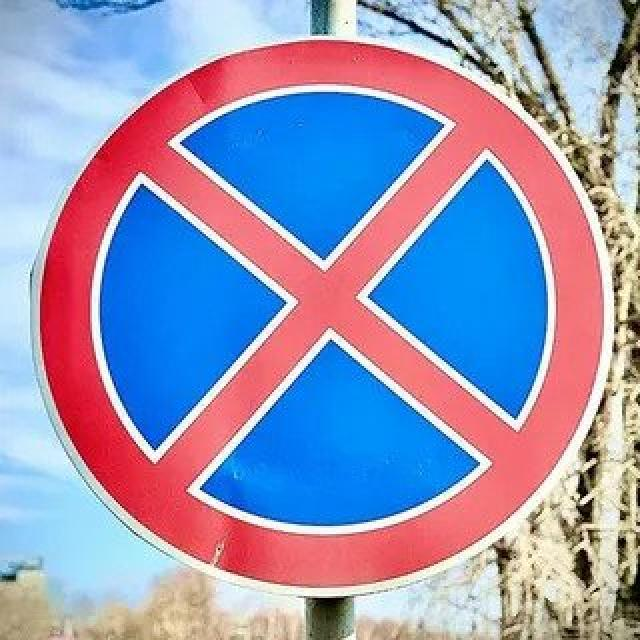no stopping: (25, 33, 620, 601)
